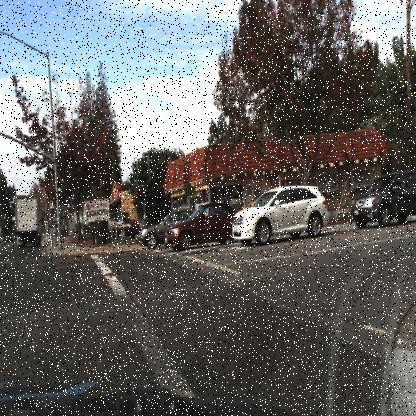car: (226, 173, 340, 251), (344, 159, 415, 242), (348, 166, 414, 228), (162, 198, 236, 248), (136, 207, 171, 250), (98, 212, 138, 242)
truck: (14, 195, 43, 249)
